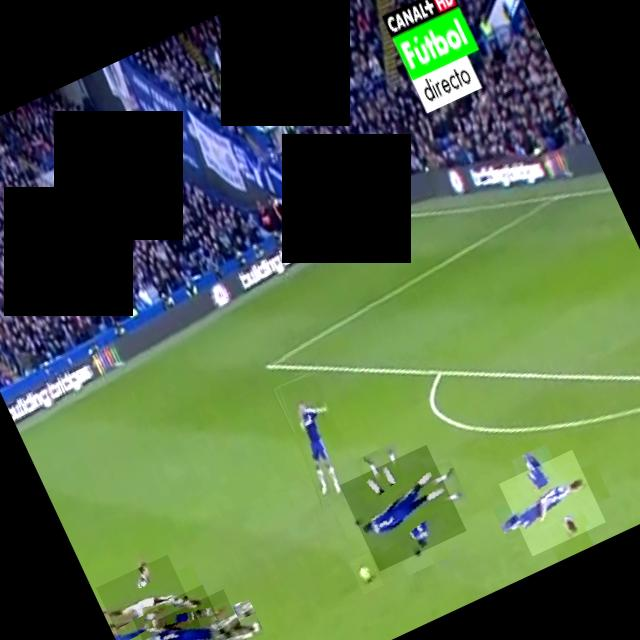ball: (349, 552, 384, 594)
soccer-player: (339, 444, 466, 572), (271, 371, 367, 507), (499, 449, 606, 556), (96, 554, 201, 640), (132, 584, 236, 640), (153, 589, 256, 640)
